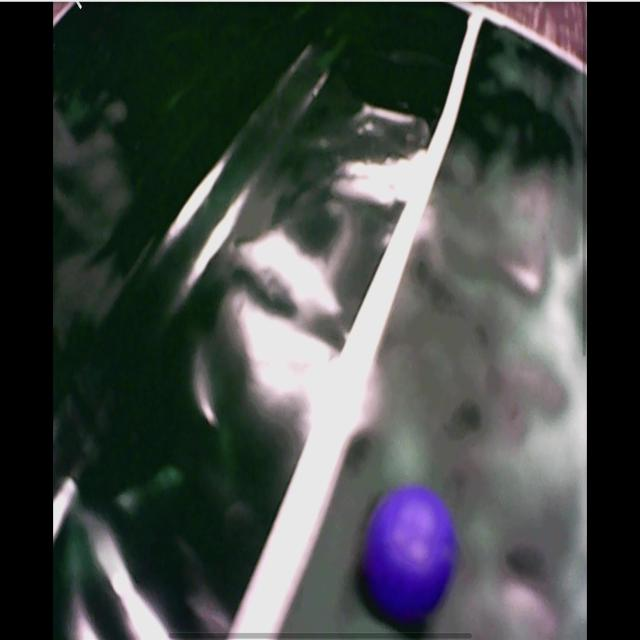ball: (367, 488, 455, 620)
